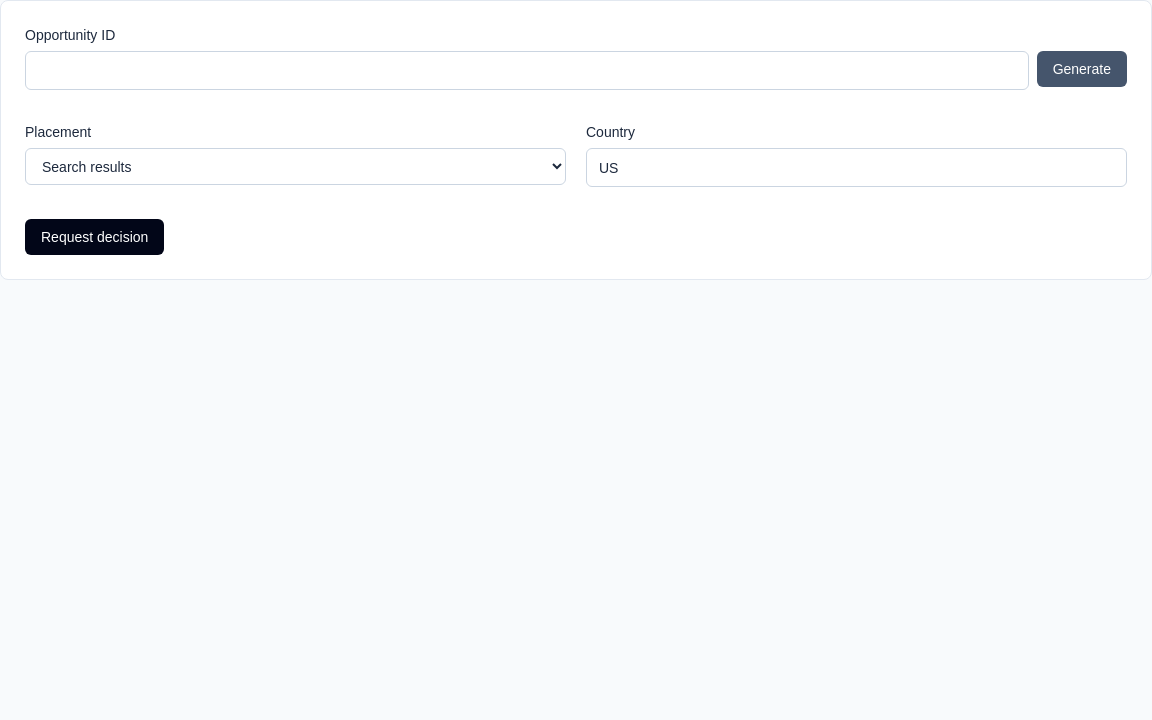
Test: DecisionLab › renders a no-fill without inventing an error
Type "51000000-0000-4000-8000-000000000001" into the field labelled "Opportunity ID". click: (527, 70)
box: [25, 51, 1029, 90]
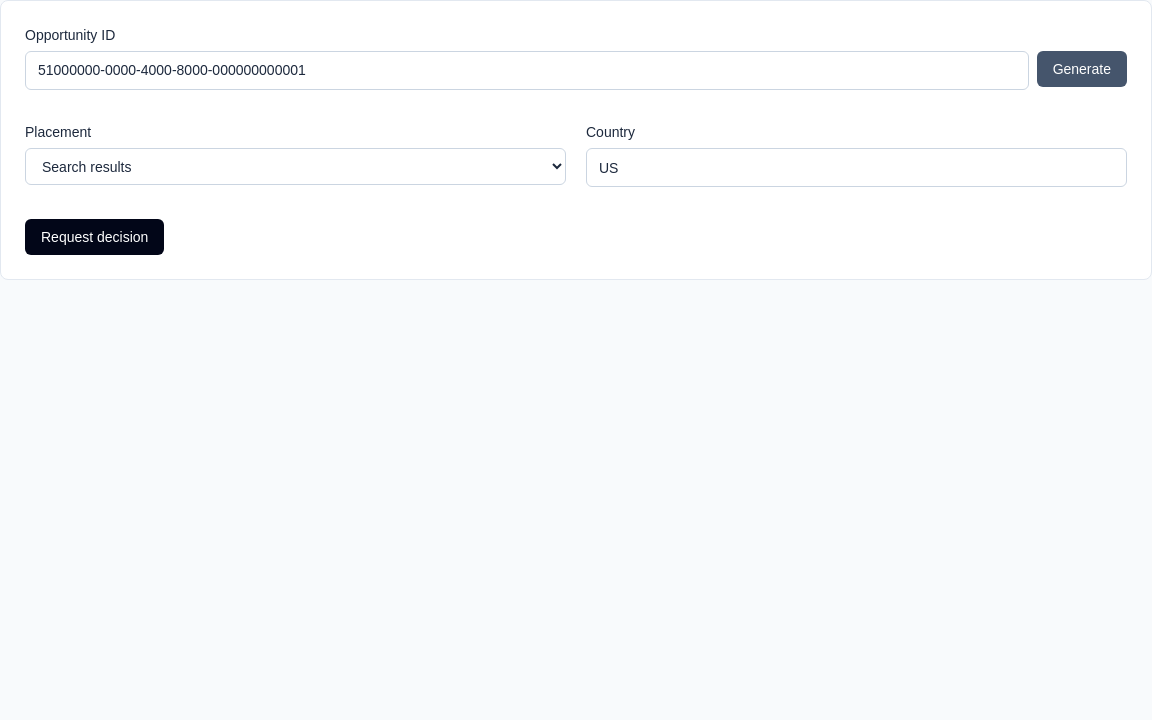
Replace the text in the field labelled "Country" with "us". click: (856, 168)
box: [586, 148, 1127, 187]
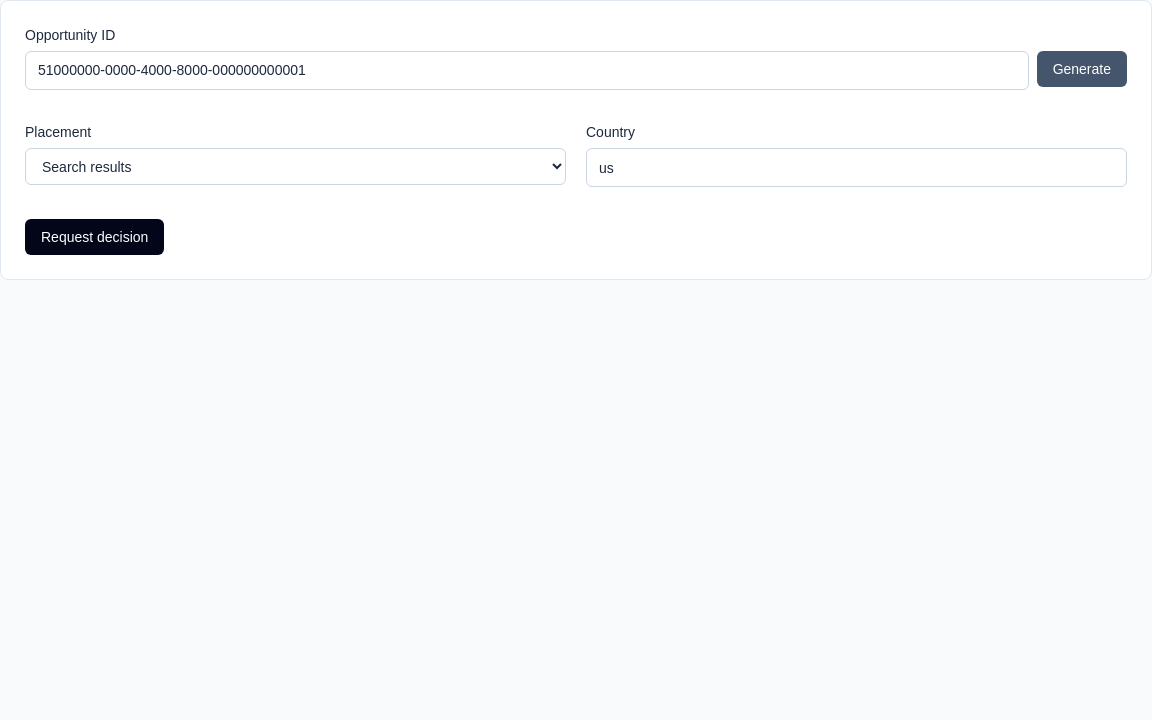
Click the button "Request decision". click: (95, 237)
box: [25, 219, 164, 255]
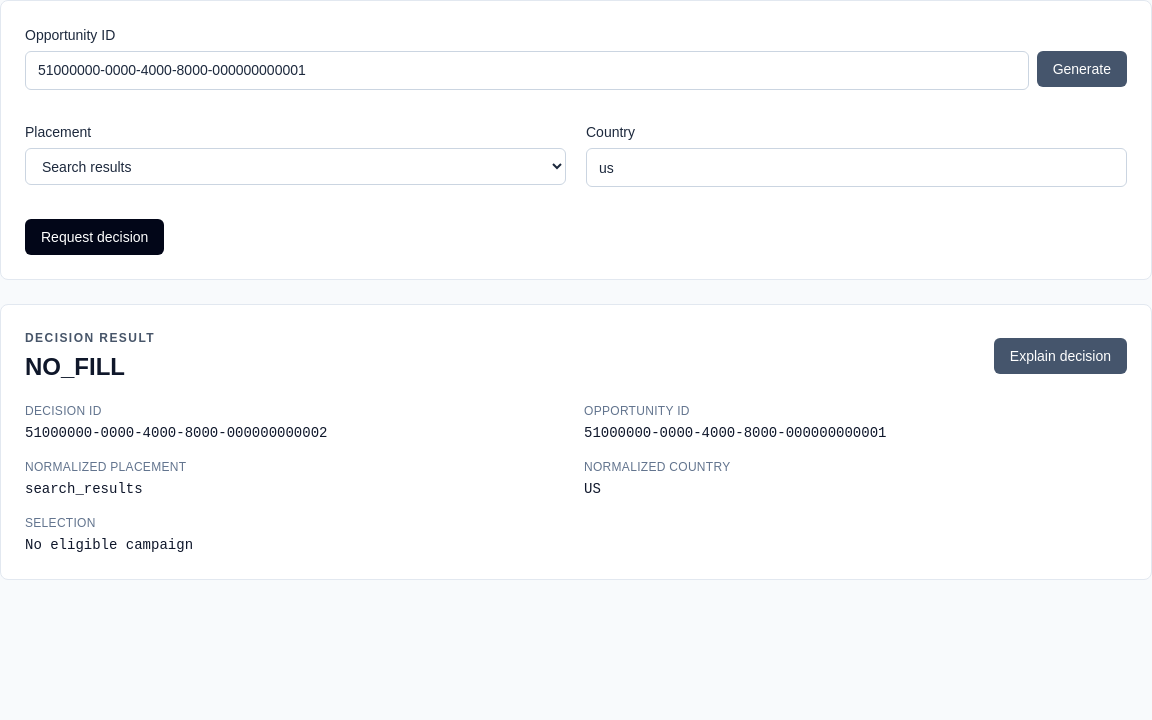
Result: the heading "NO_FILL" is shown at [25, 353, 125, 380]
Result: the text "No eligible campaign" is shown at [25, 537, 193, 553]
